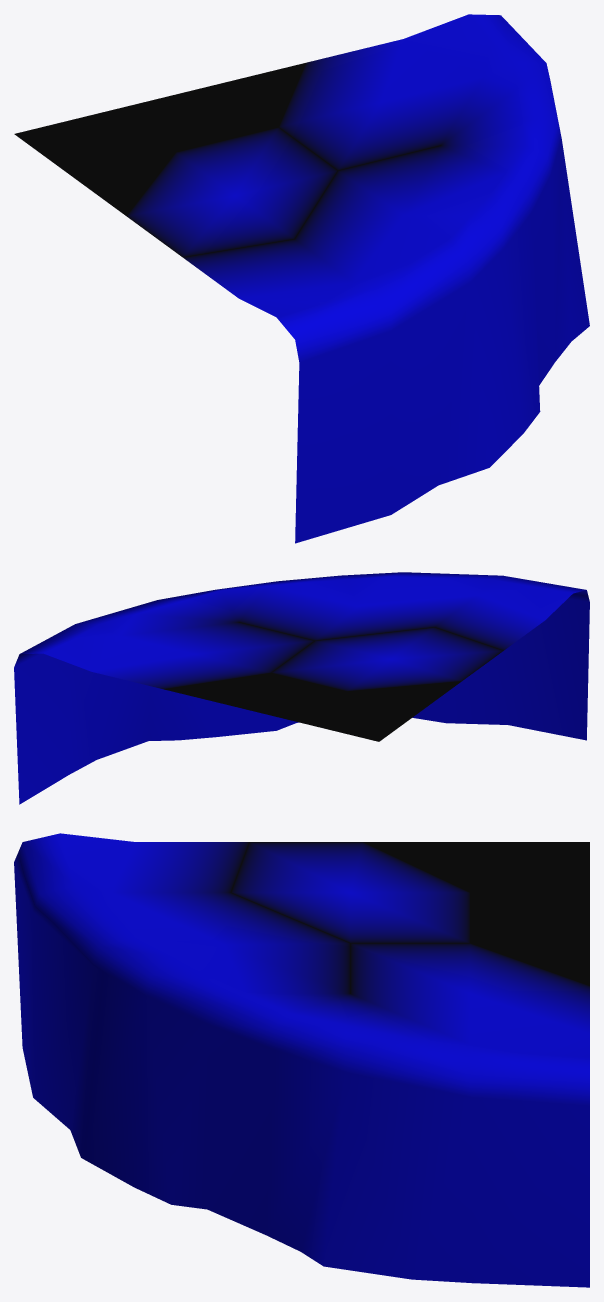
The model's file is Ground_Corner_0.fbx.
3 views of the same model, one above another, from view 1: azimuth 30°, elevation 25°; view 2: azimuth 150°, elevation 25°; view 3: azimuth 270°, elevation 25° (orthographic). The views are drawn at different scales.
Visible parts, largest first — view 1: Ground_Corner_0; view 2: Ground_Corner_0; view 3: Ground_Corner_0.
Part boxes in pixels (left/top/right/bottom): Ground_Corner_0: left=14, top=14, right=589, bottom=543; Ground_Corner_0: left=14, top=572, right=589, bottom=804; Ground_Corner_0: left=14, top=833, right=589, bottom=1287.
Bounding box in the file's own units: 0.0508 × 0.0209 × 0.0508.
